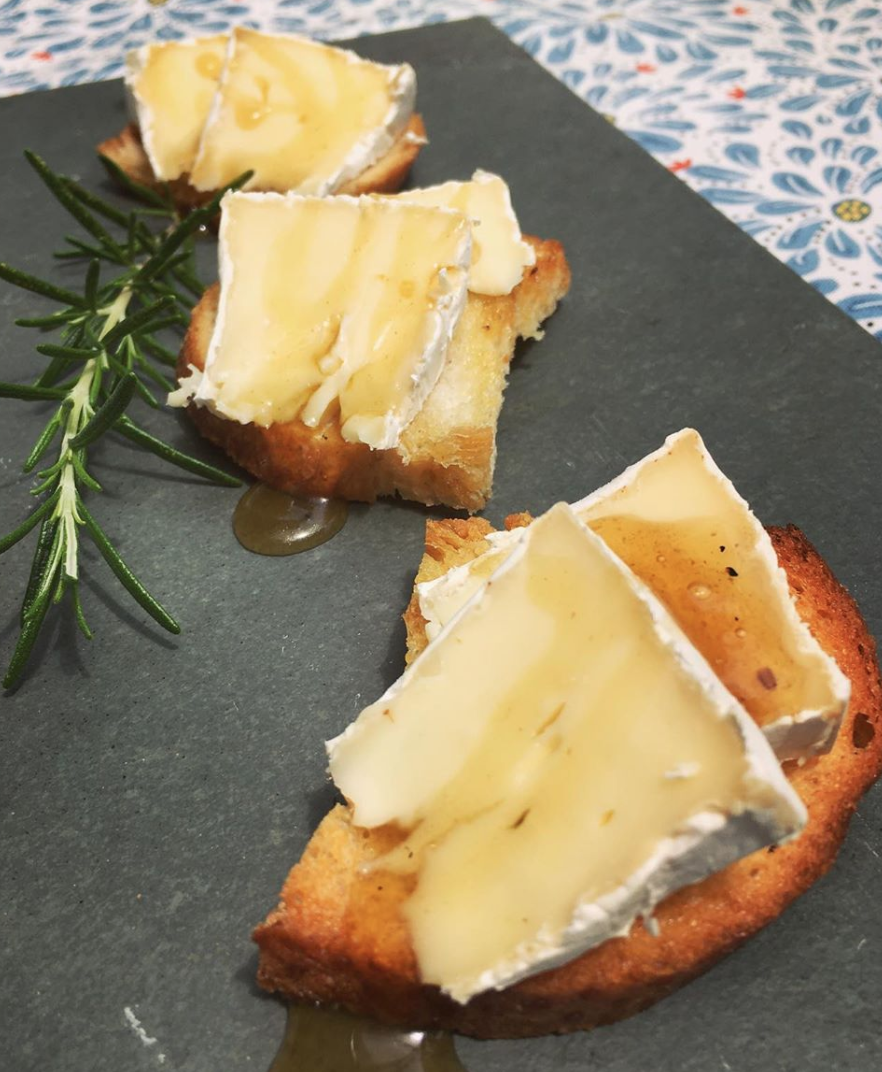camembert: (329, 425, 855, 1010), (194, 173, 540, 448), (117, 30, 421, 191)
